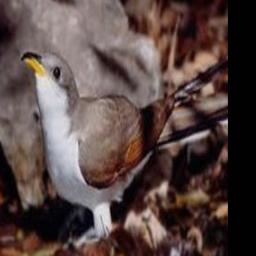Cuckoo: (21, 51, 228, 242)
